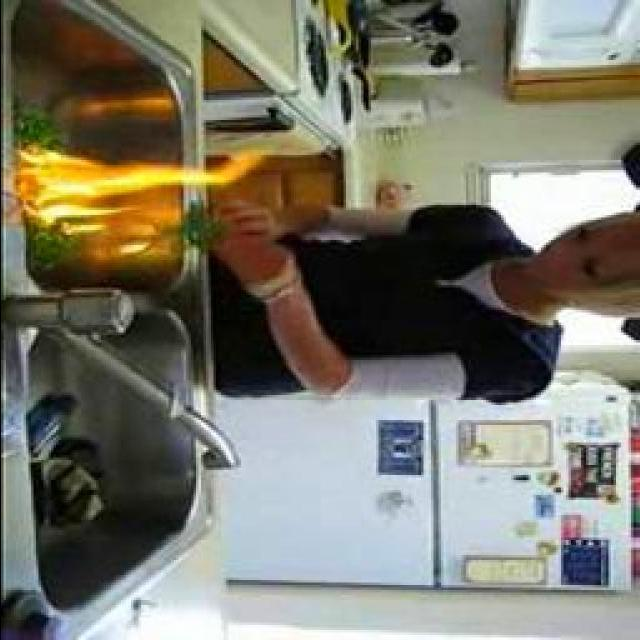Fire: (17, 145, 230, 228)
